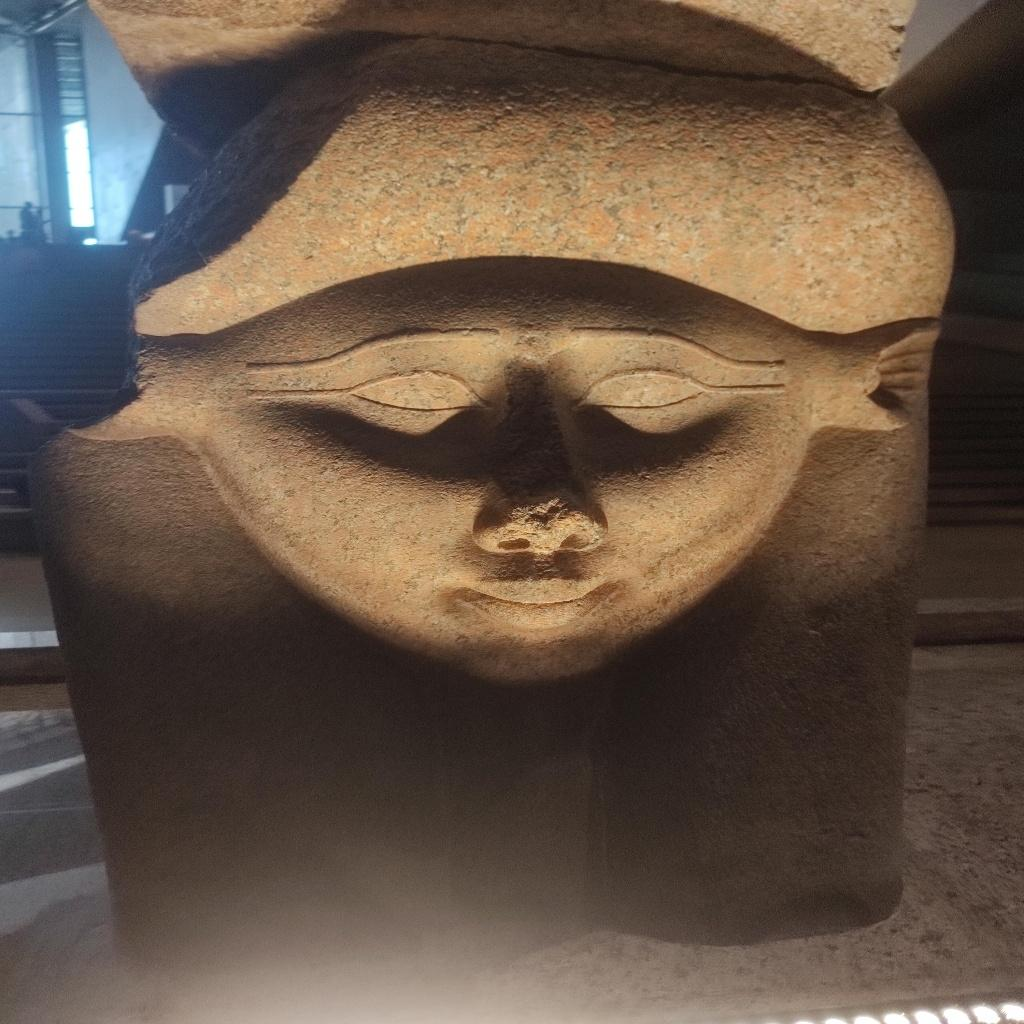Hathor Capital: (26, 3, 982, 983)
